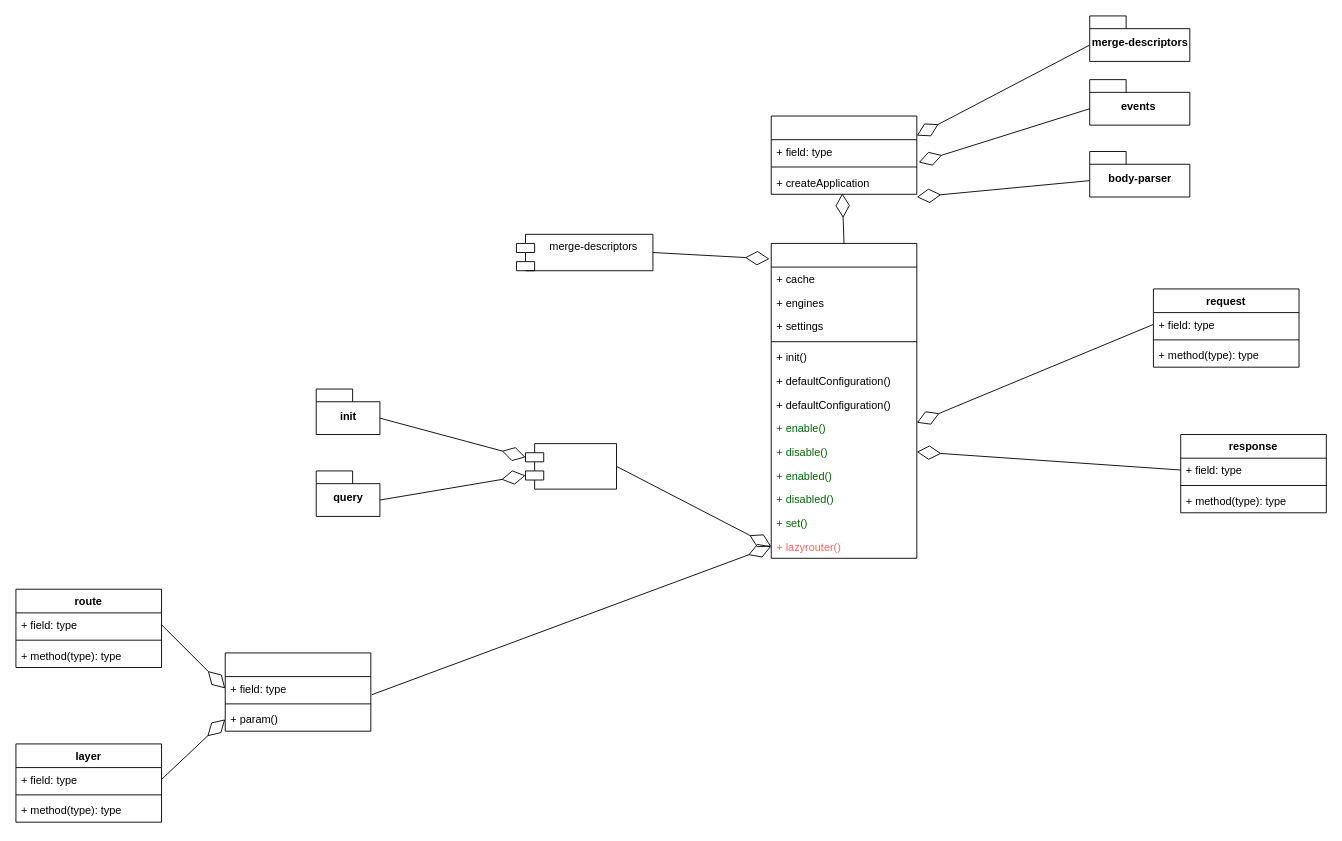
Image size: 1342x841. Some labels were removed from this diagram. The box of each missing label's shape, as (x1, y1, x2, y2) in pixels:
application: (770, 243, 917, 558)
express: (770, 115, 917, 194)
middleware: (525, 443, 617, 489)
router: (224, 652, 371, 731)
